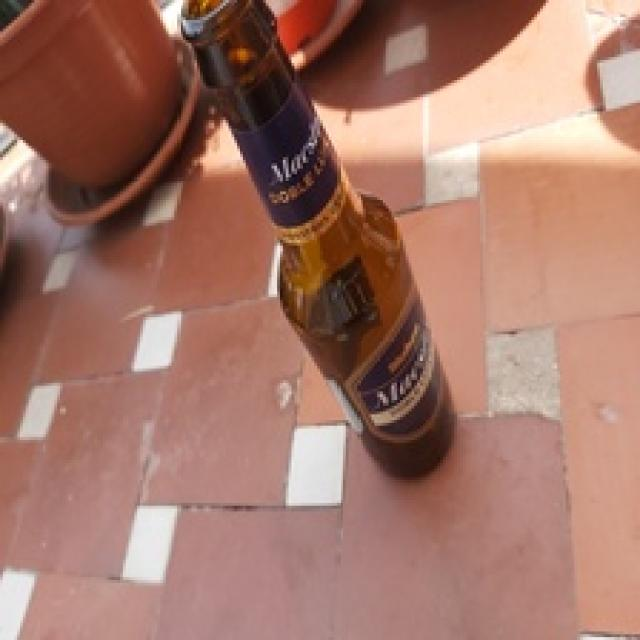glass-bottle: (147, 1, 509, 499)
